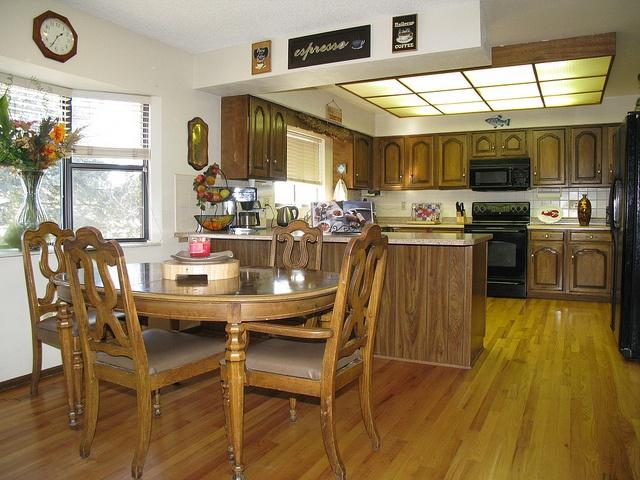Kursi: (63, 224, 233, 479), (242, 221, 388, 479)
Lemari: (352, 128, 470, 190), (530, 119, 614, 188), (245, 91, 287, 180)
Meja: (51, 265, 347, 341)
